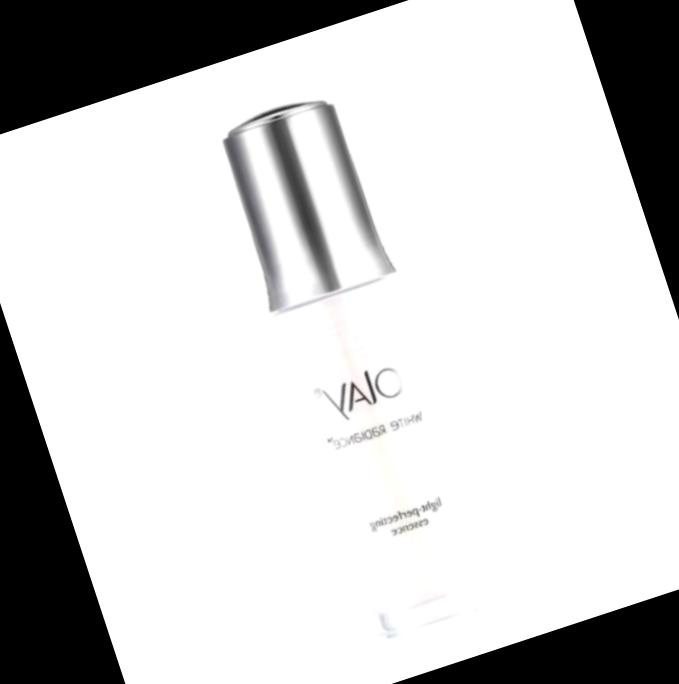cosmetic: (207, 85, 505, 635)
